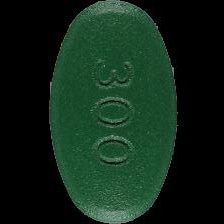0093-8192: (0, 0, 224, 224)
